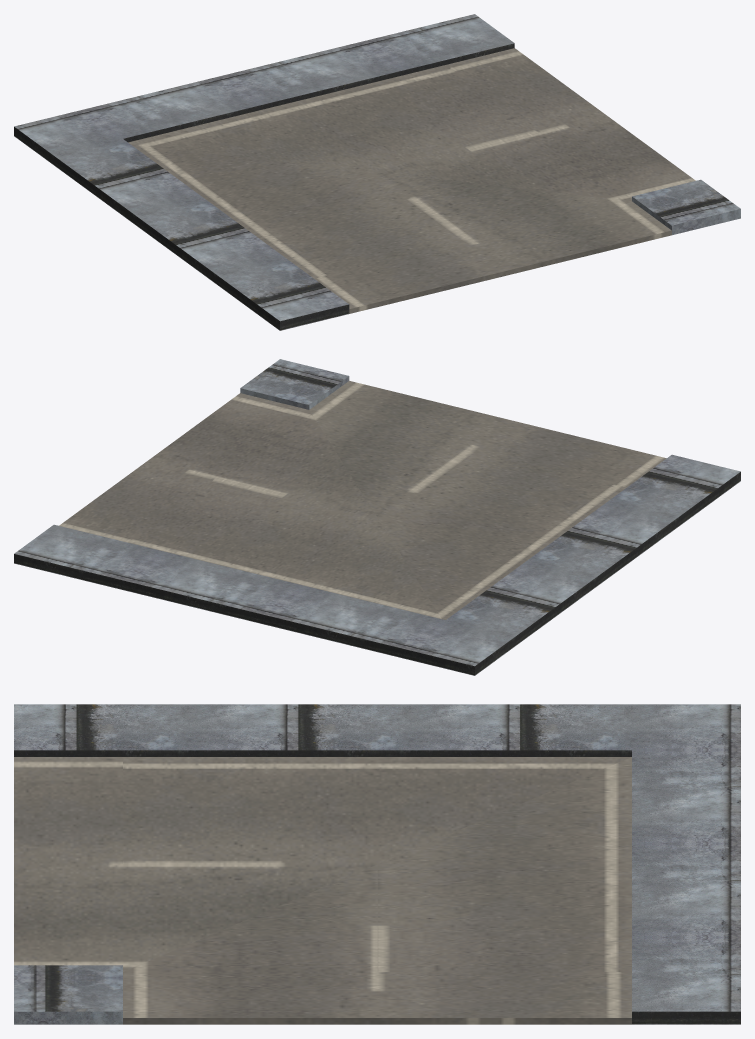
The model's file is Urban_Road4Corner_Model.fbx.
3 renders of one model, top to bottom at view 1: azimuth 30°, elevation 25°; view 2: azimuth 150°, elevation 25°; view 3: azimuth 270°, elevation 25°, orthographic. The views are drawn at different scales.
Visible parts, largest first — view 1: Urban_Road4Corner_Mesh; view 2: Urban_Road4Corner_Mesh; view 3: Urban_Road4Corner_Mesh.
Boxes of the visible parts, box(x1,y1,x2,y2) form: Urban_Road4Corner_Mesh: box(14, 14, 740, 330); Urban_Road4Corner_Mesh: box(14, 359, 740, 675); Urban_Road4Corner_Mesh: box(14, 704, 740, 1024).
Bounding box in the file's own units: 16 × 0.32 × 16.
